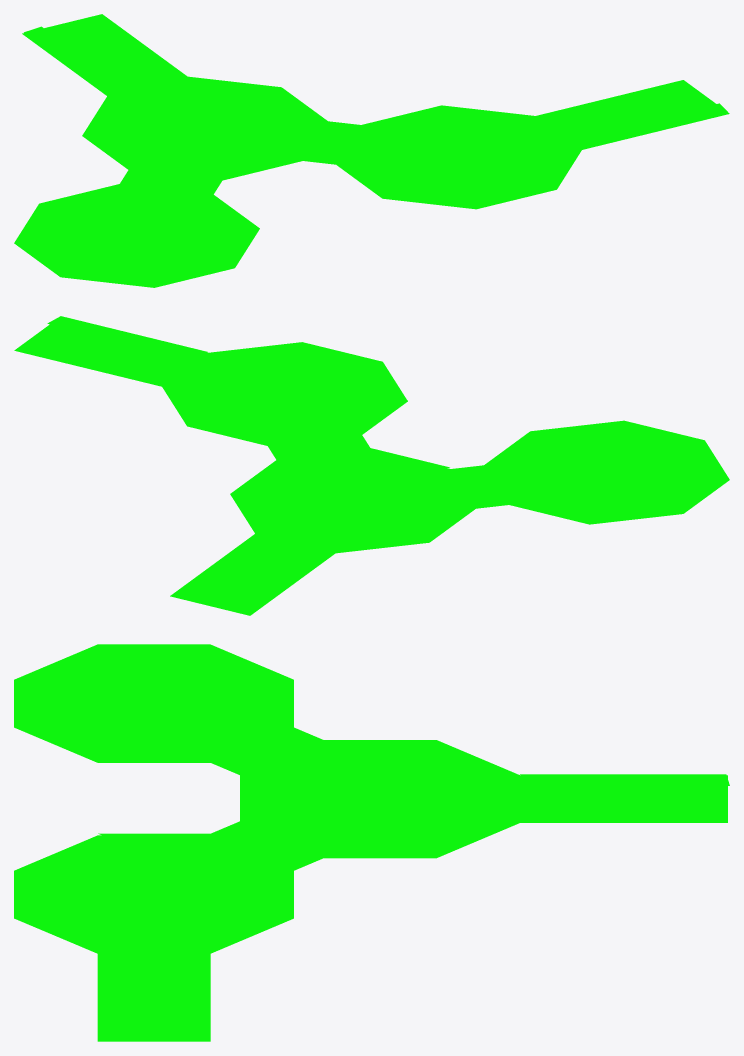
Rendered from s07b_lb3-floor.glb.
3 views of the same model, one above another, from view 1: azimuth 30°, elevation 25°; view 2: azimuth 150°, elevation 25°; view 3: azimuth 270°, elevation 25° (orthographic). The views are drawn at different scales.
Visible parts, largest first — view 1: collision_floor-colonly; view 2: collision_floor-colonly; view 3: collision_floor-colonly.
Part boxes in pixels (x1,y1,x2,y2): collision_floor-colonly: (14, 14, 729, 287); collision_floor-colonly: (14, 316, 729, 615); collision_floor-colonly: (14, 644, 729, 1041).
Size of the model in its own units: 50.02 by 0.0996 by 38.03.
